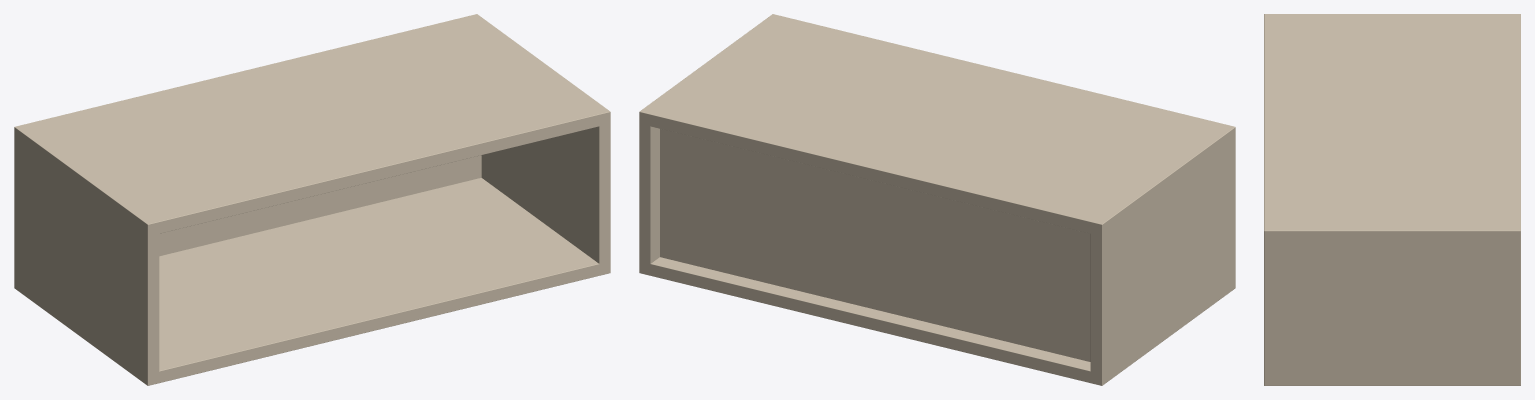
The model's file is MOD-2X07-A-B-AR.glb.
The picture shows the model from 3 angles, left to right: view 1: azimuth 30°, elevation 25°; view 2: azimuth 150°, elevation 25°; view 3: azimuth 270°, elevation 25°; orthographic projection. The views are drawn at different scales.
Size of the model in its own units: 720 by 240 by 360.
